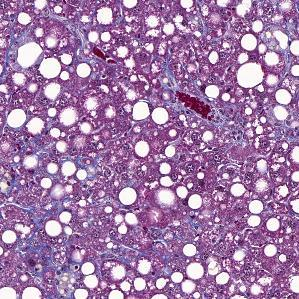fibrosis: (164, 87, 250, 152), (20, 228, 93, 286)
